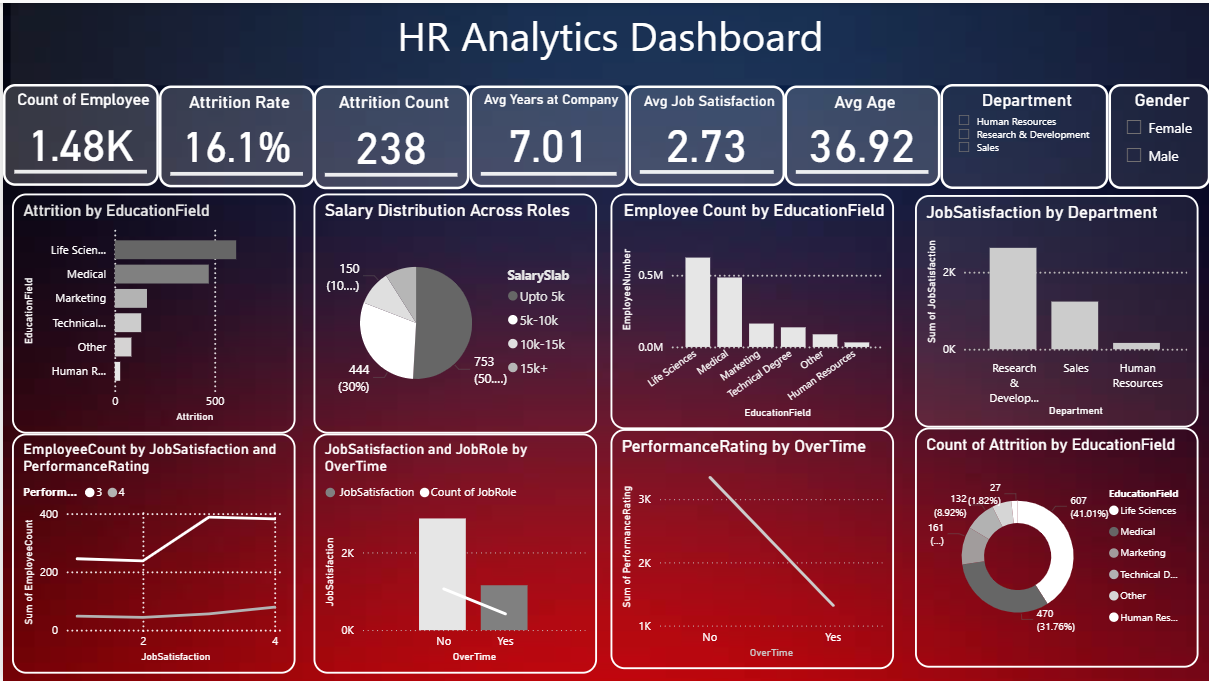

What the dashboard file says about the page in this screenshot:
{"tool":"powerbi","page":{"name":"Page 1","canvas":[1280,720],"ordinal":0},"visuals":[{"type":"cardVisual","title":"Count of Employee","fields":{"Data":["CountNonNull(HR_Analytics.EmpID)"]},"box":[0,85.9,165.4,108.2],"z":0},{"type":"cardVisual","title":"Avg Age","fields":{"Data":["Avg(HR_Analytics.Age)"]},"box":[828.7,87.5,165.4,106.6],"z":1000},{"type":"cardVisual","title":"Attrition Count","fields":{"Data":["HR_Analytics.Attrition Count"]},"box":[329.3,87.5,165.4,109.8],"z":2000},{"type":"cardVisual","title":"Avg Years at Company","fields":{"Data":["Avg(HR_Analytics.YearsAtCompany)"]},"box":[494.7,87.5,168,108.2],"z":3000},{"type":"slicer","title":"Gender","fields":{"Values":["HR_Analytics.Gender"]},"box":[1172.3,85.9,108.2,111.3],"z":4000},{"type":"slicer","title":"Department","fields":{"Values":["HR_Analytics.Department"]},"box":[994.1,85.9,178.1,111.3],"z":5000},{"type":"pieChart","title":"Salary Distribution Across Roles","fields":{"Category":["HR_Analytics.SalarySlab"],"Y":["CountNonNull(HR_Analytics.JobRole)"]},"box":[329.3,202,300.6,254.5],"z":6000},{"type":"columnChart","title":"Employee Count by EducationField","fields":{"Category":["HR_Analytics.EducationField"],"Y":["Sum(HR_Analytics.EmployeeNumber)"]},"box":[644.2,202,300.6,249.7],"z":7000},{"type":"lineChart","title":"PerformanceRating by OverTime","fields":{"Category":["HR_Analytics.OverTime"],"Y":["Sum(HR_Analytics.PerformanceRating)"]},"box":[644.2,451.7,300.6,254.5],"z":8000},{"type":"lineStackedColumnComboChart","title":"JobSatisfaction by Department","fields":{"Category":["HR_Analytics.Department"],"Y":["Sum(HR_Analytics.JobSatisfaction)"]},"box":[967.1,203.6,300.6,246.5],"z":9000},{"type":"barChart","fields":{"Category":["HR_Analytics.EducationField"],"Y":["CountNonNull(HR_Analytics.Attrition)"]},"box":[9.5,202,300.6,254.5],"z":10000},{"type":"donutChart","fields":{"Category":["HR_Analytics.EducationField"],"Y":["CountNonNull(HR_Analytics.Attrition)"]},"box":[967.1,450.1,300.6,254.5],"z":11000},{"type":"lineStackedColumnComboChart","title":" JobSatisfaction and JobRole by OverTime","fields":{"Category":["HR_Analytics.OverTime"],"Y":["Sum(HR_Analytics.JobSatisfaction)"],"Y2":["CountNonNull(HR_Analytics.JobRole)"]},"box":[329.3,456.5,300.6,254.5],"z":12000},{"type":"lineChart","title":"EmployeeCount by JobSatisfaction and PerformanceRating","fields":{"Category":["HR_Analytics.JobSatisfaction"],"Series":["HR_Analytics.PerformanceRating"],"Y":["Sum(HR_Analytics.EmployeeCount)"]},"box":[9.5,456.5,300.6,254.5],"z":13000},{"type":"textbox","box":[8,0,1272.5,87.5],"z":14000},{"type":"cardVisual","title":"Attrition Rate ","fields":{"Data":["HR_Analytics.Attrition Rate"]},"box":[165.4,87.5,165.4,108.2],"z":15000},{"type":"cardVisual","title":"Avg Job Satisfaction","fields":{"Data":["HR_Analytics.Avg Job Satisfaction"]},"box":[663.3,87.5,166,106.6],"z":16000}]}

Visuals, with their boxes in screenshot pixels (x1, y1, x2, y2), scaled from the page's 1280x720 canvas onto the 1209x681 screenshot:
"Count of Employee" cardVisual: detection(0, 81, 156, 184)
"Avg Age" cardVisual: detection(783, 83, 939, 184)
"Attrition Count" cardVisual: detection(311, 83, 467, 187)
"Avg Years at Company" cardVisual: detection(467, 83, 626, 185)
"Gender" slicer: detection(1107, 81, 1208, 187)
"Department" slicer: detection(939, 81, 1107, 187)
"Salary Distribution Across Roles" pieChart: detection(311, 191, 595, 432)
"Employee Count by EducationField" columnChart: detection(608, 191, 892, 427)
"PerformanceRating by OverTime" lineChart: detection(608, 427, 892, 668)
"JobSatisfaction by Department" lineStackedColumnComboChart: detection(913, 193, 1197, 426)
barChart - HR_Analytics.EducationField x CountNonNull(HR_Analytics.Attrition): detection(9, 191, 293, 432)
donutChart - HR_Analytics.EducationField x CountNonNull(HR_Analytics.Attrition): detection(913, 426, 1197, 666)
" JobSatisfaction and JobRole by OverTime" lineStackedColumnComboChart: detection(311, 432, 595, 672)
"EmployeeCount by JobSatisfaction and PerformanceRating" lineChart: detection(9, 432, 293, 672)
textbox: detection(8, 0, 1208, 83)
"Attrition Rate " cardVisual: detection(156, 83, 312, 185)
"Avg Job Satisfaction" cardVisual: detection(627, 83, 783, 184)
